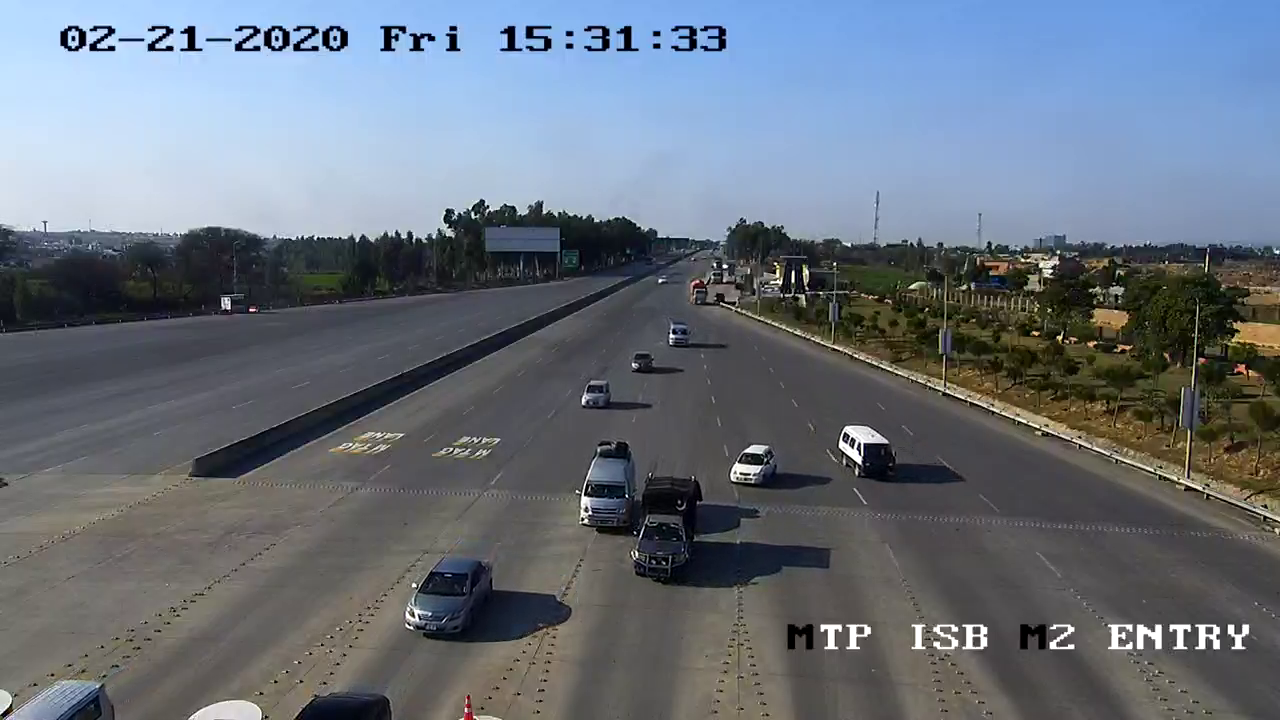f1: (391, 549, 503, 648), (717, 435, 782, 497), (562, 374, 626, 414)
f2: (620, 464, 714, 592), (563, 426, 643, 537)
